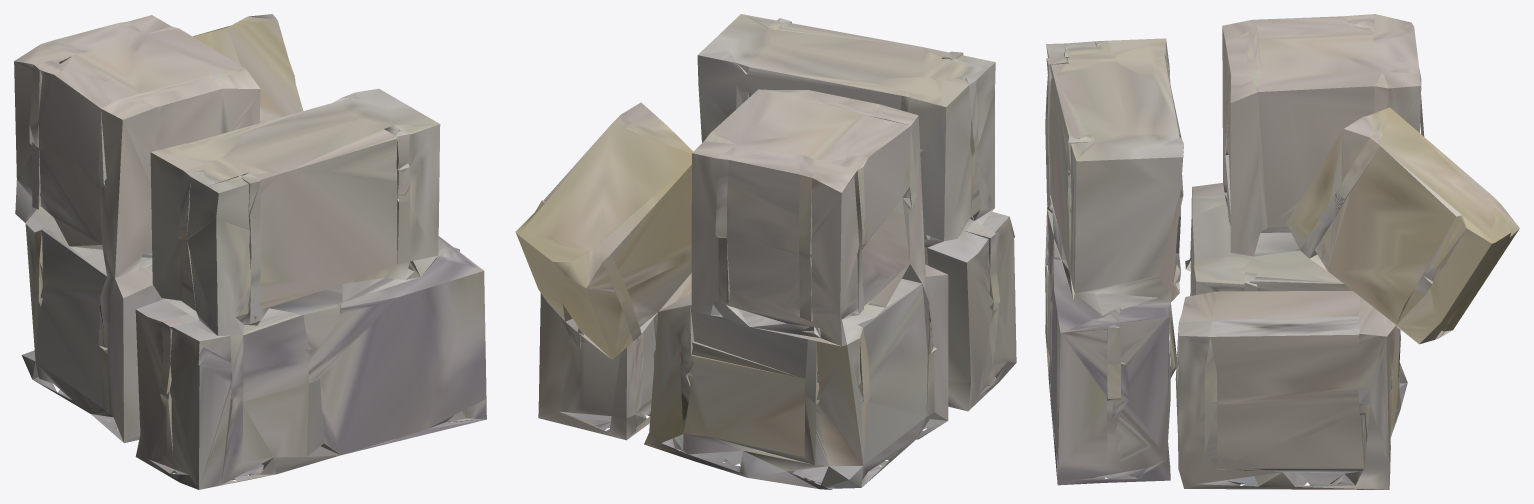
File: k03_far.glb
3 renders of one model, left to right at view 1: azimuth 30°, elevation 25°; view 2: azimuth 150°, elevation 25°; view 3: azimuth 270°, elevation 25°, orthographic. The views are drawn at different scales.
Parts seen in each view (by area): view 1: k03_far; view 2: k03_far; view 3: k03_far.
Part boxes in pixels (x1,y1,x2,y2): k03_far: (14,14,486,489); k03_far: (515,14,1016,489); k03_far: (1045,14,1519,489).
Size of the model in its own units: 12.49 by 12 by 15.95.
Materials: 1 (1 with a texture image).
